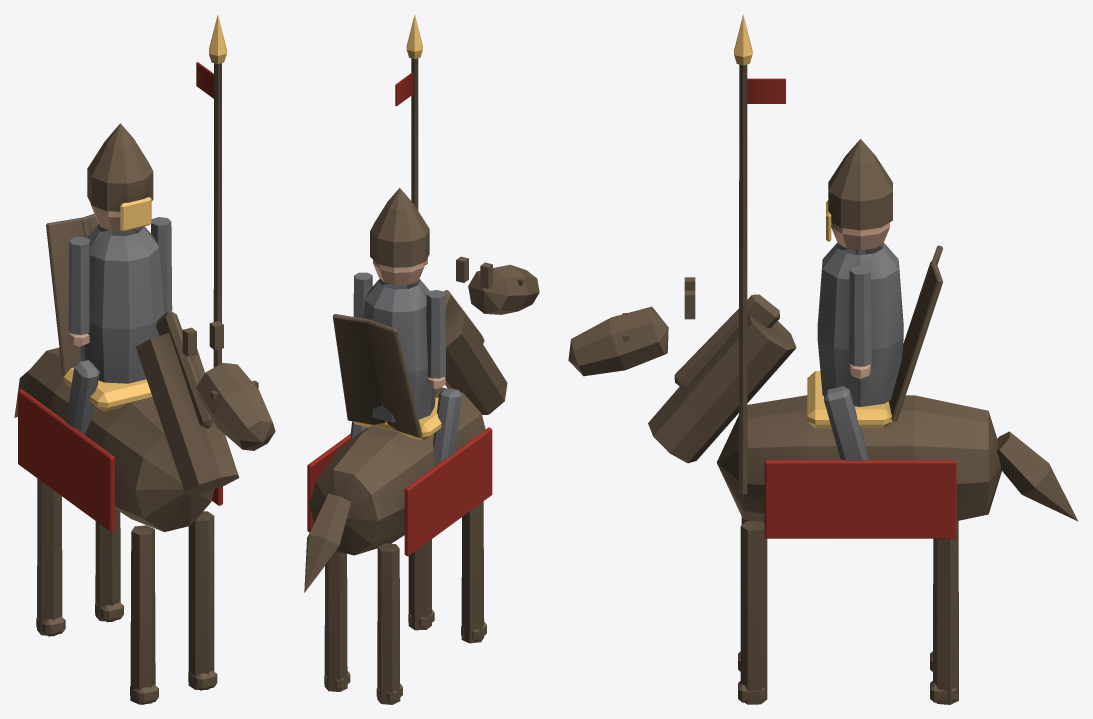
File: unit_kromeshnik.glb
The picture shows the model from 3 angles, left to right: view 1: azimuth 30°, elevation 25°; view 2: azimuth 150°, elevation 25°; view 3: azimuth 270°, elevation 25°; orthographic projection. The views are drawn at different scales.
Visible parts, largest first — view 1: unit_kromeshnik; view 2: unit_kromeshnik; view 3: unit_kromeshnik.
Boxes of the visible parts, x1,y1,x2,y2 form: unit_kromeshnik: (14, 14, 275, 704); unit_kromeshnik: (304, 14, 539, 704); unit_kromeshnik: (568, 14, 1078, 704).
Size of the model in its own units: 0.252 by 1.43 by 0.9565.
